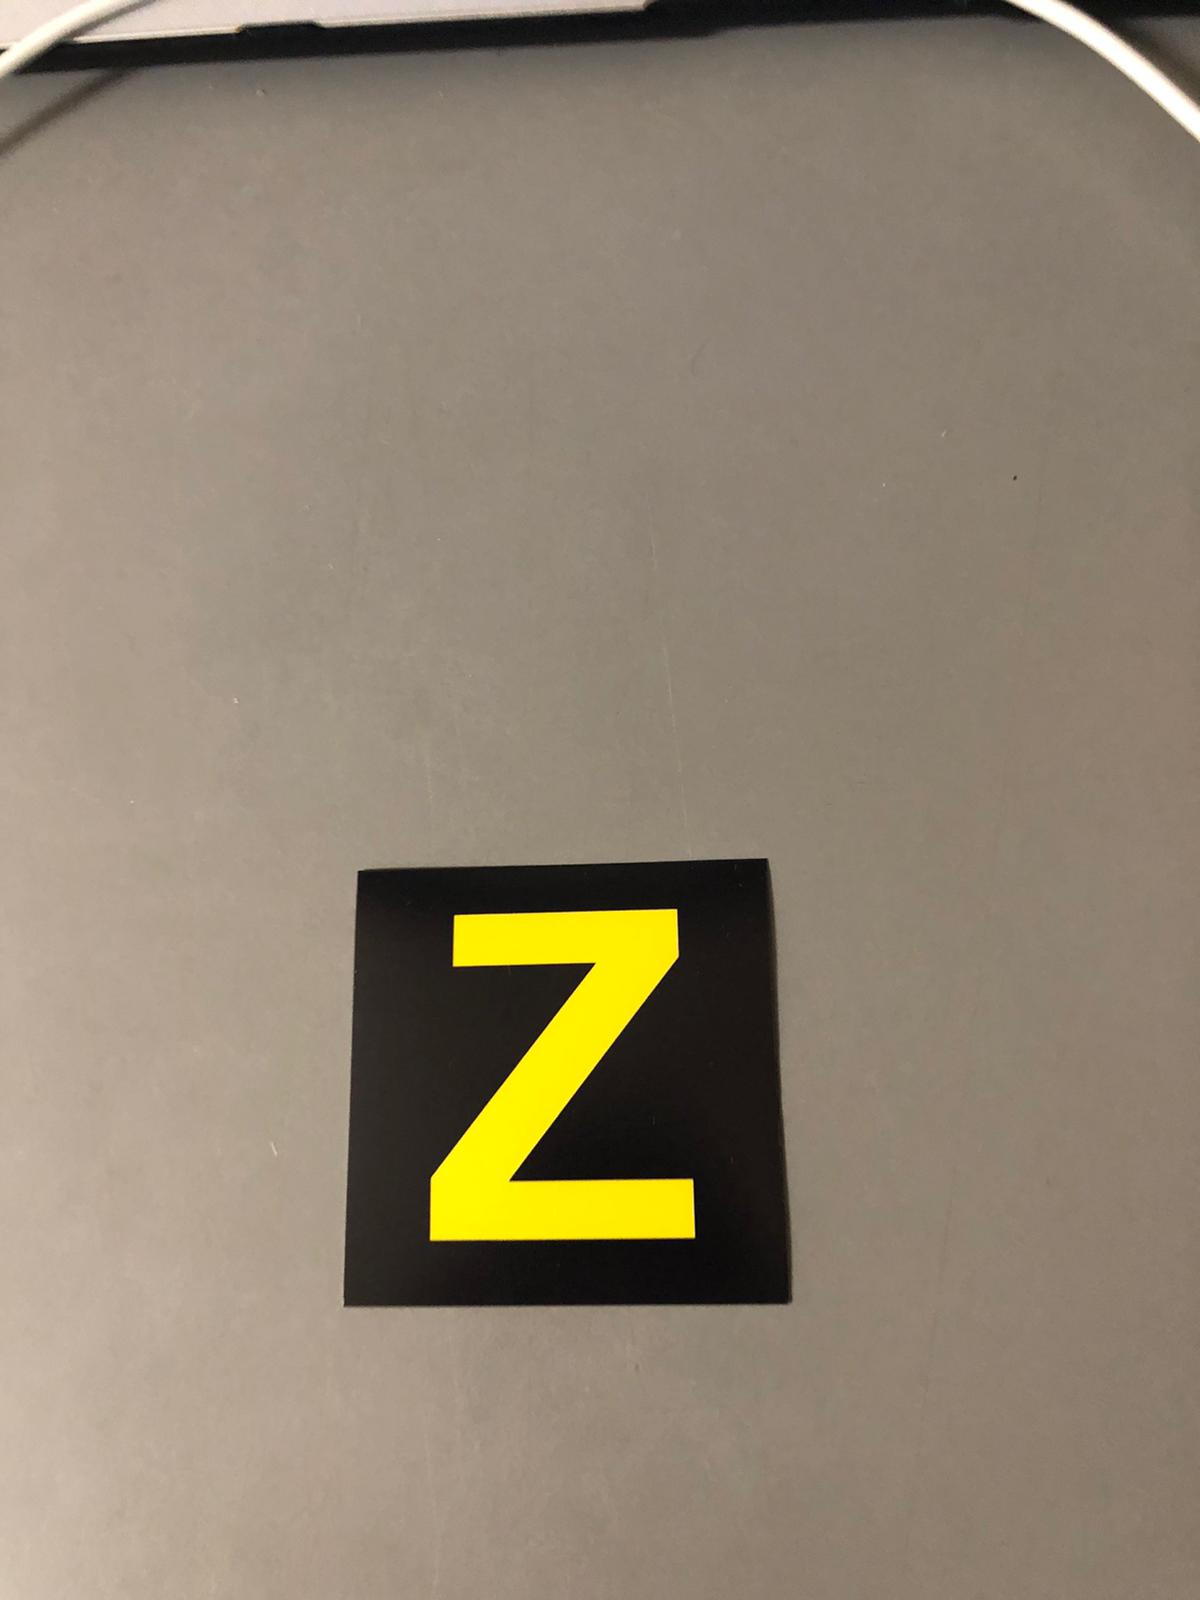Z: (379, 871, 758, 1277)
